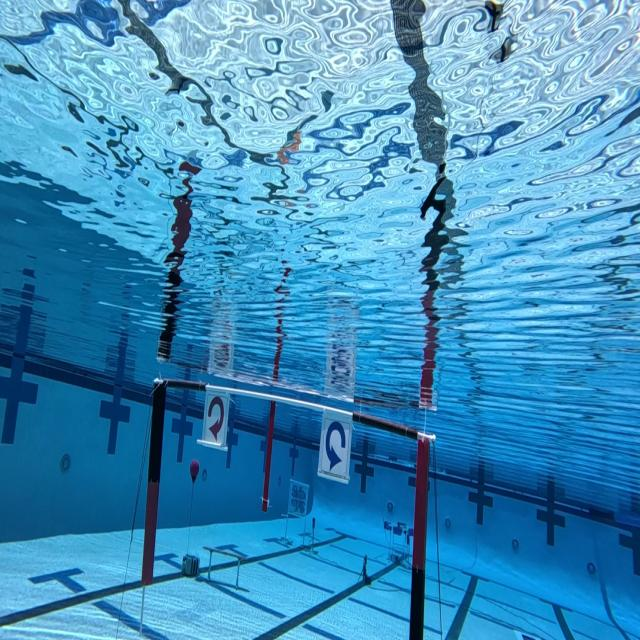blue_side: (318, 413, 352, 480)
red_side: (203, 382, 231, 450)
